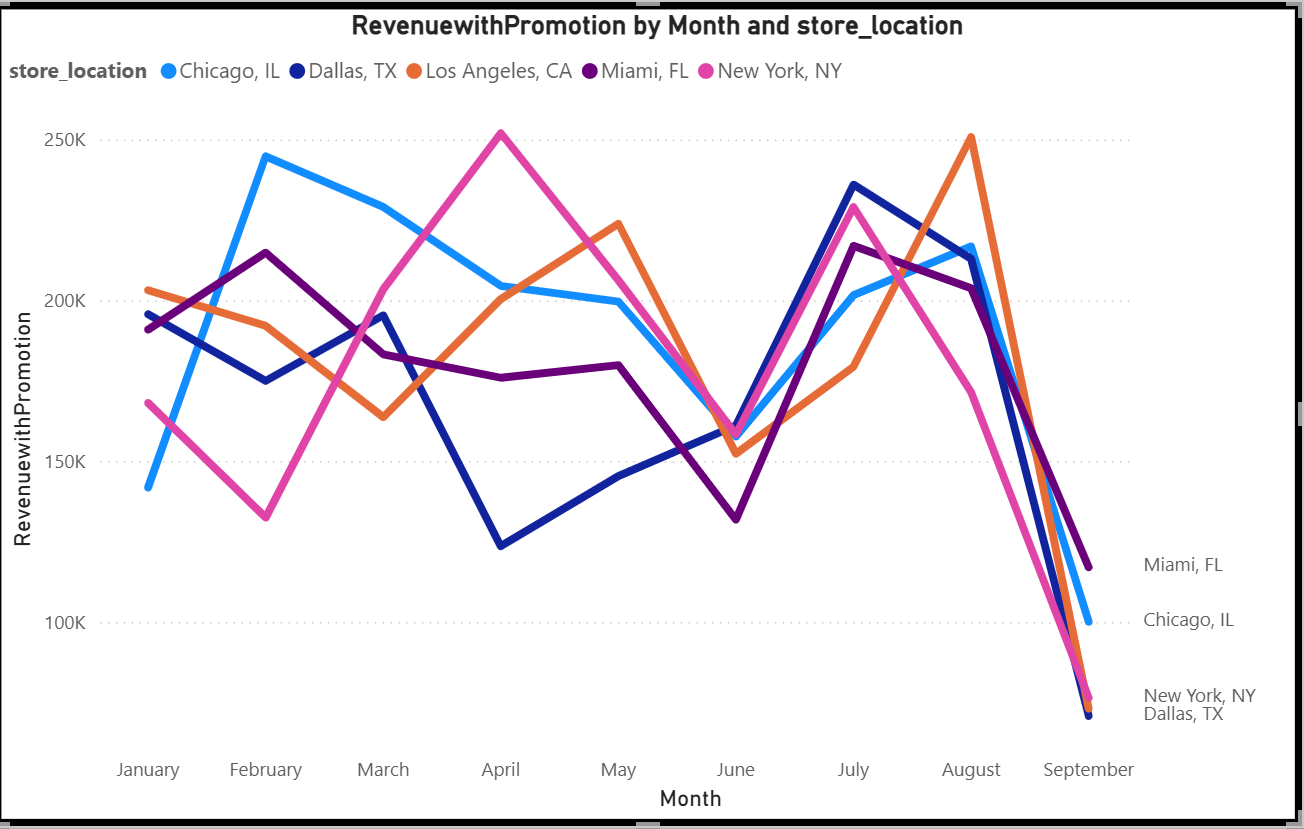

This screenshot's page, from the dashboard's own definition file:
{"tool":"powerbi","page":{"name":"LINE CHART","canvas":[1280,720],"ordinal":1},"visuals":[{"type":"lineChart","fields":{"Y":["Walmart_Orders.RevenuewithPromotion"],"Category":["Walmart_Orders.transaction_date.Variation.Date Hierarchy.Month"],"Series":["Walmart_Orders.store_location"]},"box":[11.3,0,1135.1,703.6],"z":0}]}

Visuals, with their boxes on the page's 1280x720 design canvas (x1, y1, x2, y2). These are canvas units, not pixel positions in the 1304x829 screenshot, which may show the page scaled, cropped or inside an application window:
lineChart - Walmart_Orders.RevenuewithPromotion x Walmart_Orders.transaction_date.Variation.Date Hierarchy.Month: l=11, t=0, r=1146, b=704
